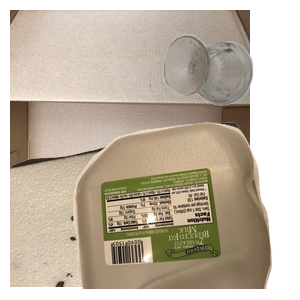cardboard: (10, 10, 250, 190)
glass: (161, 30, 300, 128)
plastic: (71, 120, 300, 300)
trash: (10, 120, 250, 300)
